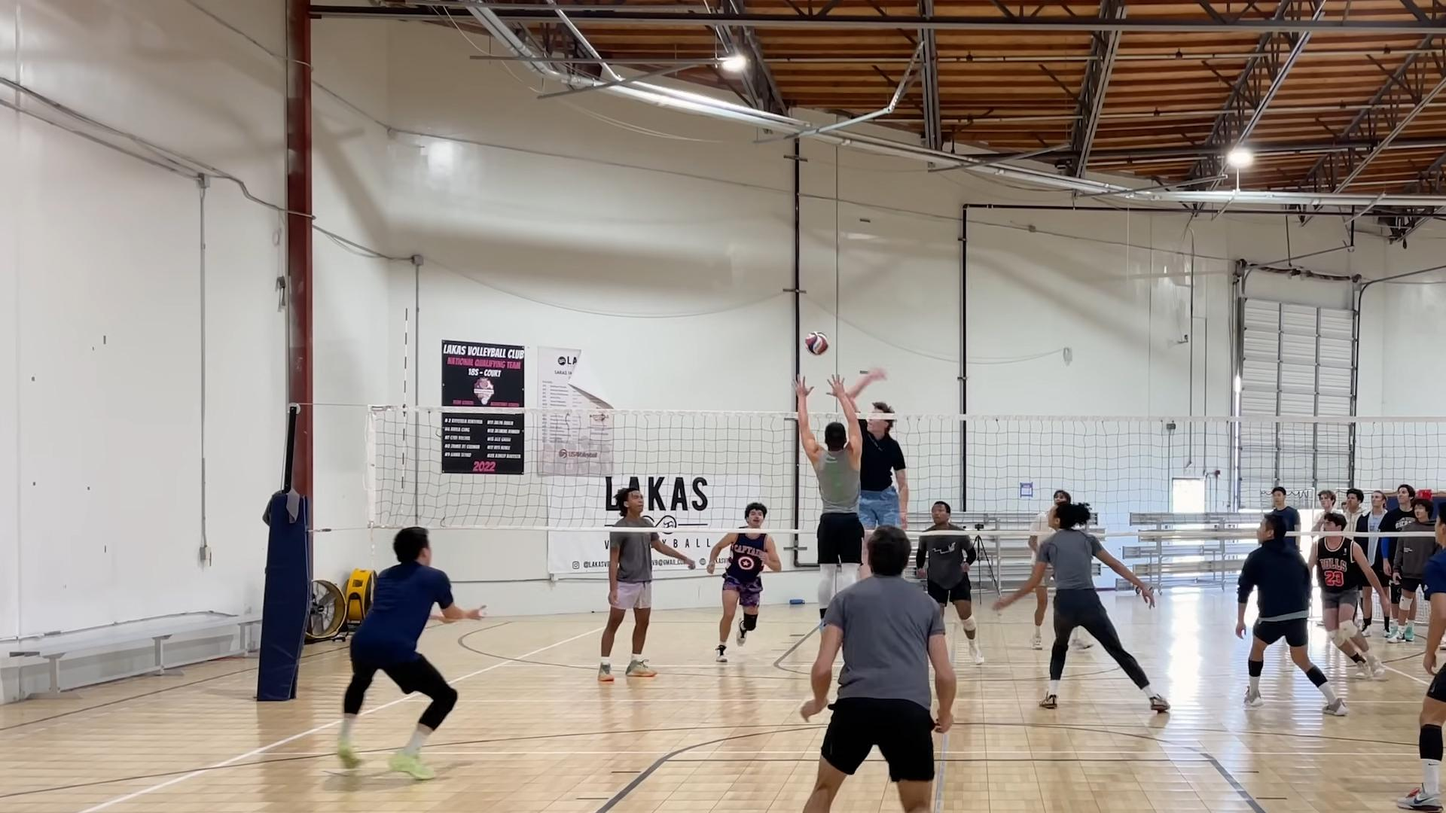attacco: (841, 360, 916, 534)
muro: (792, 374, 866, 617)
